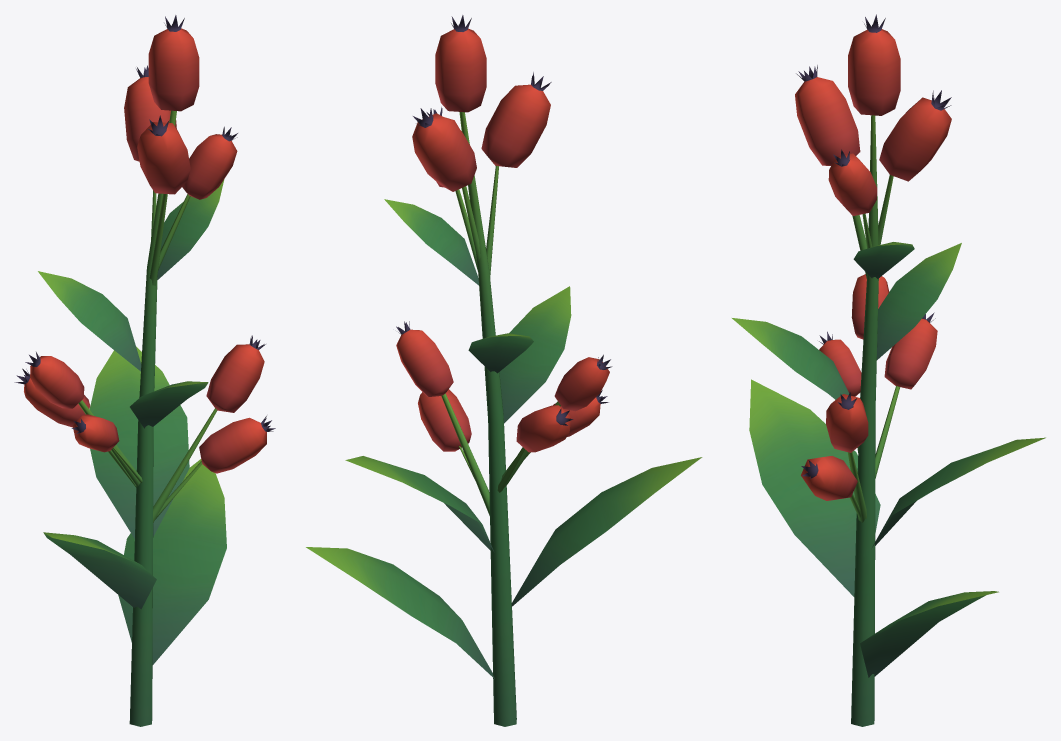
File: flower_021_base_material_0.fbx
3 renders of one model, left to right at view 1: azimuth 30°, elevation 25°; view 2: azimuth 150°, elevation 25°; view 3: azimuth 270°, elevation 25°, orthographic. The views are drawn at different scales.
Parts seen in each view (by area): view 1: flower_021_base_material_0; view 2: flower_021_base_material_0; view 3: flower_021_base_material_0.
Part boxes in pixels (<box>): flower_021_base_material_0: <box>14,15,275,726</box>; flower_021_base_material_0: <box>306,15,702,726</box>; flower_021_base_material_0: <box>732,14,1045,726</box>.
Bounding box in the file's own units: 1.74 × 1.65 × 4.17.
Materials: 1 (1 with a texture image).
